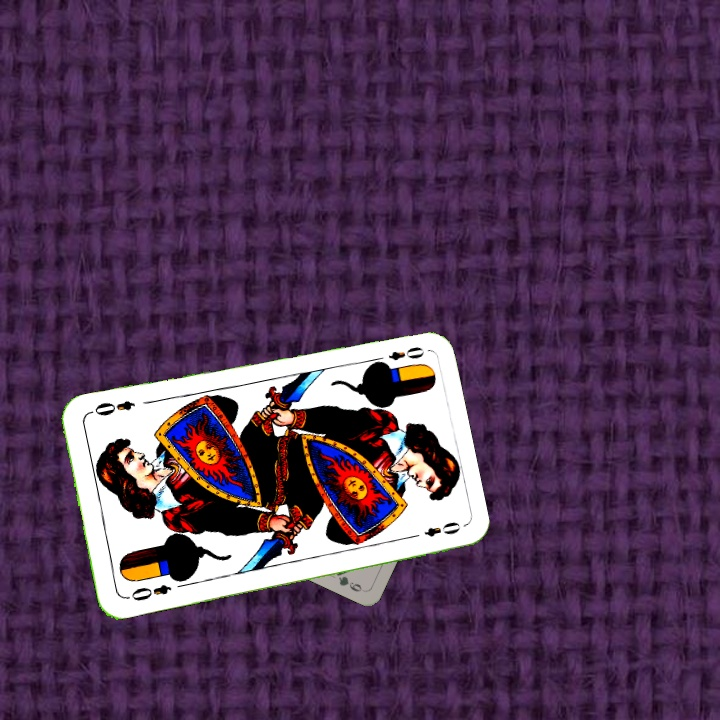EO: (122, 580, 174, 604), (384, 342, 427, 364)
